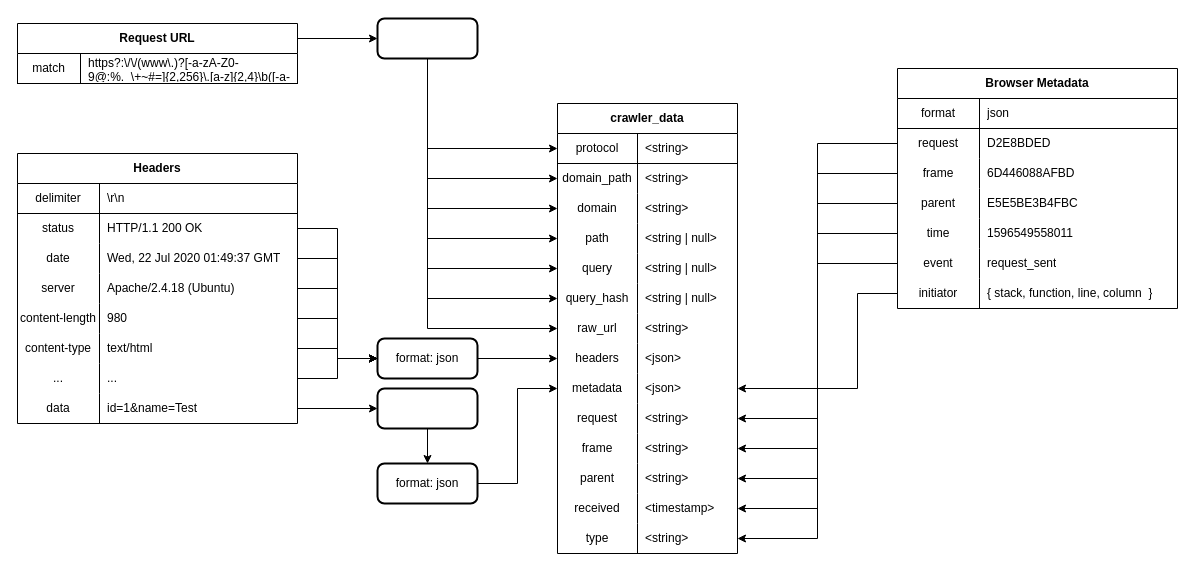
Some shapes in this 1195 by 571 pixel diagram are drawn without their labels. Each missing label, with the centre of its shape:
split: HashMap: (x=427, y=408)
URI Parse: (x=427, y=38)
